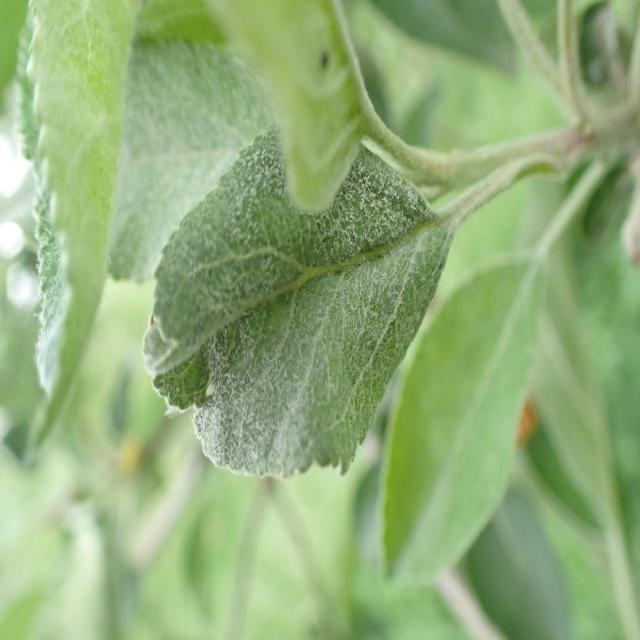Powdery_mildew: (128, 115, 482, 495), (12, 0, 152, 461), (205, 0, 412, 218)
